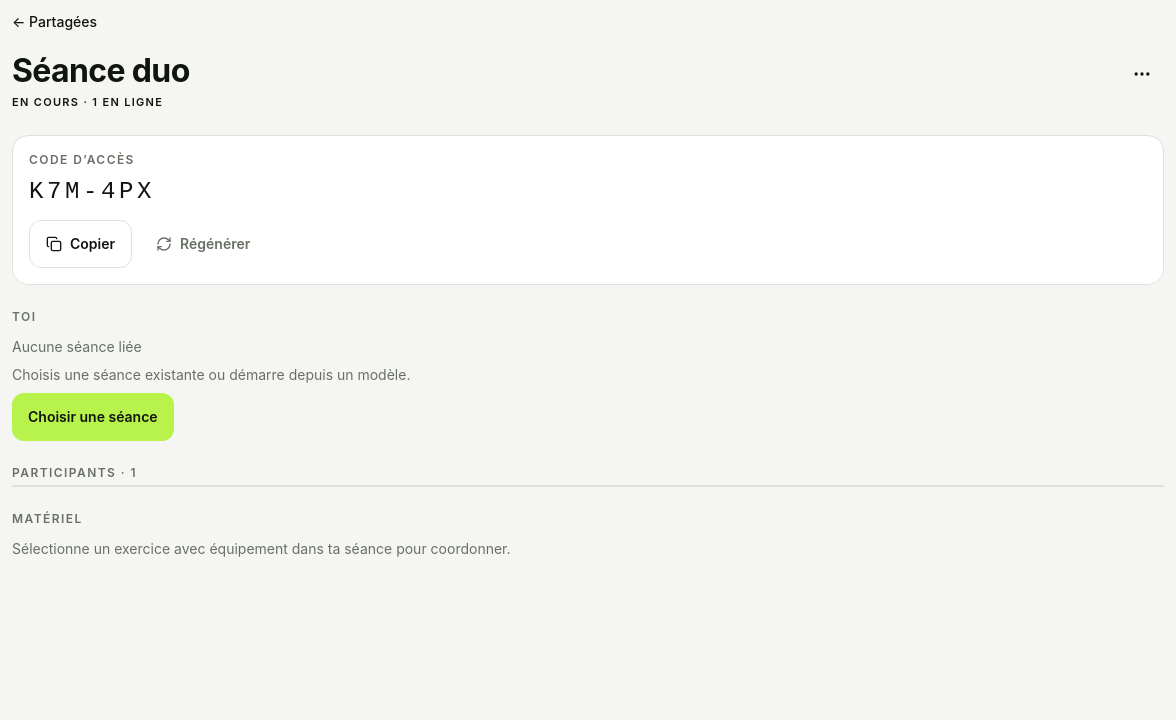
Test: SharedWorkoutRoomDetailPage › affiche ACTIVE avec terminer / annuler dans le menu
expect the text "En cours · 1 en ligne" is shown: met, box [12,94,190,111]
Step 1. Click the button named "actions de la salle" → point(1142, 74), box [1120,52,1164,96]
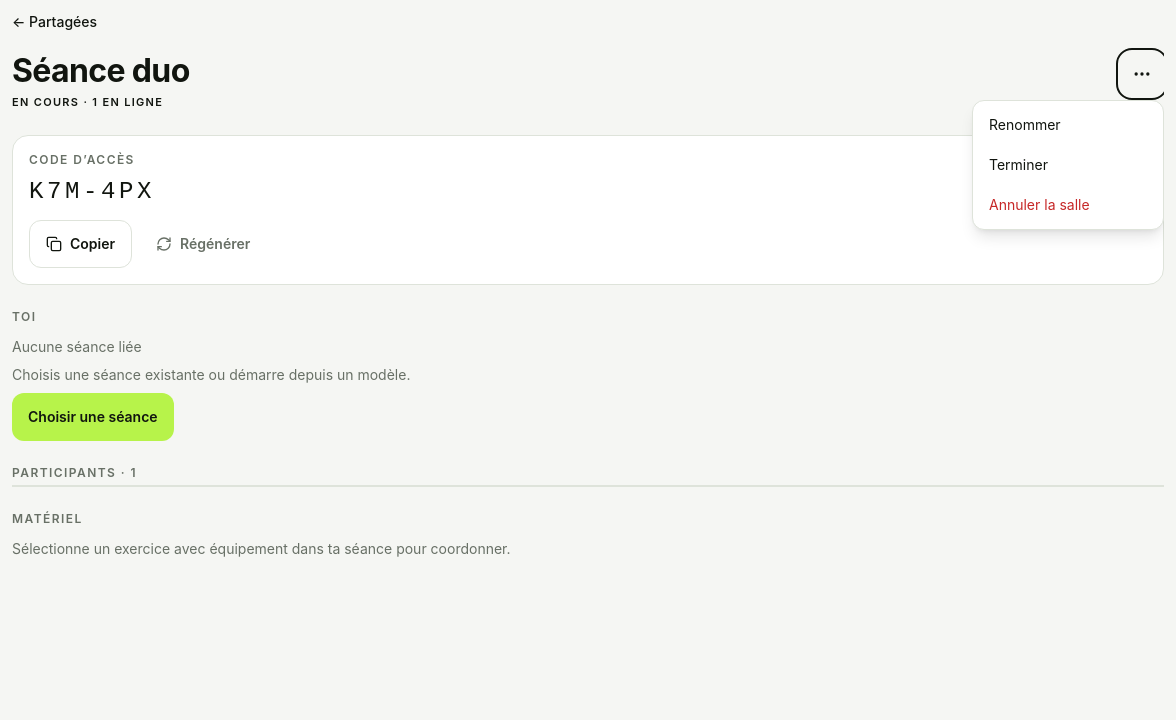
expect the menu item "Terminer" is shown: met, box [977,145,1159,185]
expect the menu item "Annuler la salle" is shown: met, box [977,185,1159,225]
